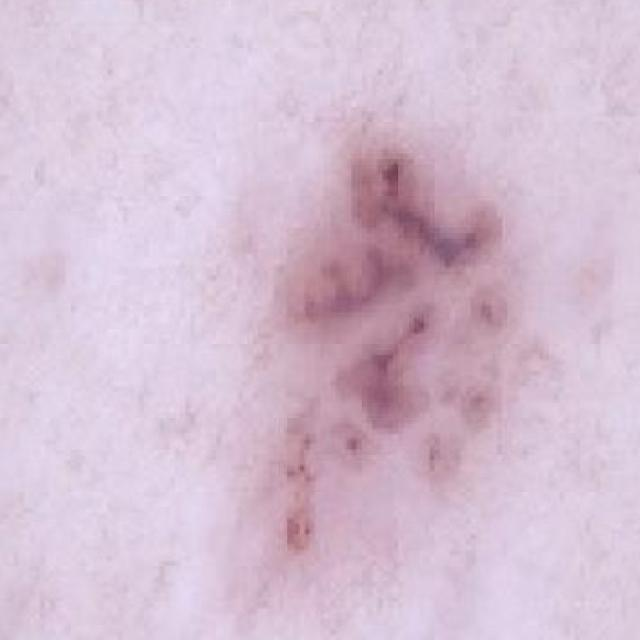BCC: (171, 100, 528, 600)
